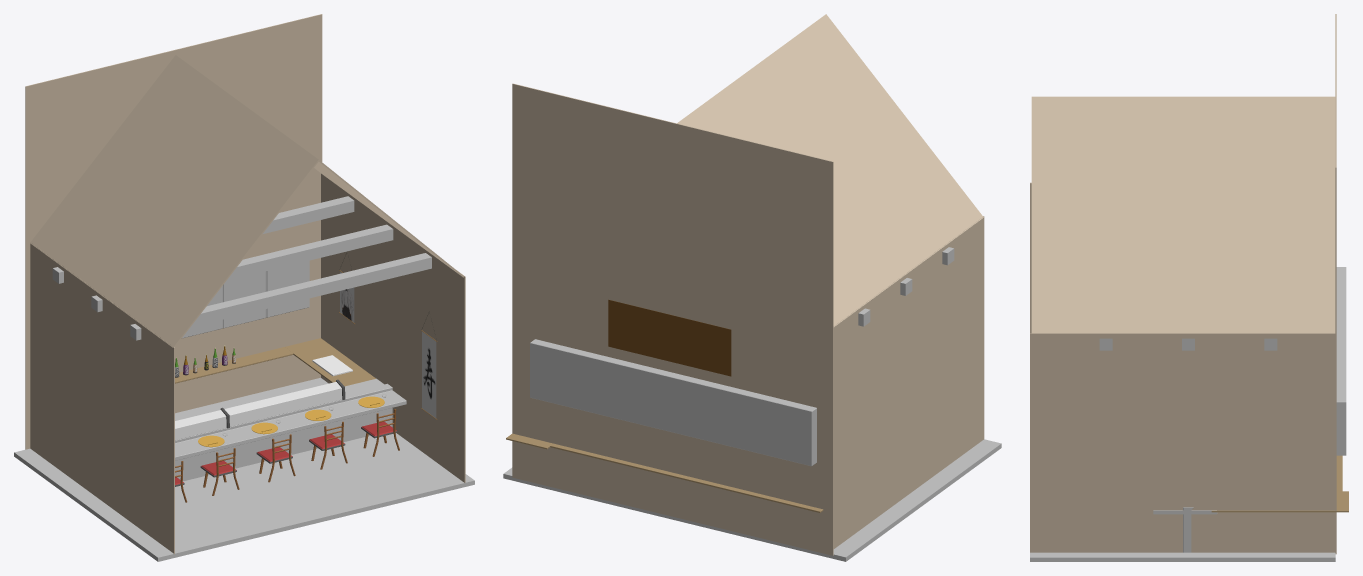
File: sushiya.fbx
The picture shows the model from 3 angles, left to right: view 1: azimuth 30°, elevation 25°; view 2: azimuth 150°, elevation 25°; view 3: azimuth 270°, elevation 25°; orthographic projection. The views are drawn at different scales.
Visible parts, largest first — view 1: pCube24, pCube3, pCube22, pCube1, pCube2, pCube4, pCube29, polySurface1, pCube5, pCube28, pCylinder25, pCube27 (+6 smaller); view 2: pCube3, pCube24, pCube22, pCube5, pCube26, pCube1, pCube10; view 3: pCube24, pCube2, pCube1, pCube5, pCube3, pCube4, pCube7.
Boxes of the visible parts, left/top/right/bottom form: pCube24: left=30, top=55, right=463, bottom=347; pCube3: left=25, top=14, right=322, bottom=449; pCube22: left=30, top=242, right=174, bottom=554; pCube1: left=14, top=377, right=474, bottom=561; pCube2: left=321, top=173, right=465, bottom=482; pCube4: left=175, top=378, right=406, bottom=481; pCube29: left=130, top=253, right=431, bottom=340; polySurface1: left=175, top=382, right=342, bottom=440; pCube5: left=182, top=260, right=309, bottom=338; pCube28: left=91, top=224, right=393, bottom=312; pCylinder25: left=339, top=253, right=437, bottom=419; pCube27: left=52, top=196, right=354, bottom=283; pCube3: left=512, top=83, right=833, bottom=555; pCube24: left=677, top=14, right=983, bottom=326; pCube22: left=833, top=216, right=984, bottom=548; pCube5: left=530, top=339, right=816, bottom=466; pCube26: left=608, top=299, right=731, bottom=376; pCube1: left=503, top=439, right=1001, bottom=561; pCube10: left=550, top=443, right=823, bottom=512; pCube24: left=1031, top=96, right=1335, bottom=333; pCube2: left=1030, top=333, right=1335, bottom=552; pCube1: left=1030, top=552, right=1335, bottom=561; pCube5: left=1336, top=267, right=1346, bottom=455; pCube3: left=1335, top=14, right=1336, bottom=554; pCube4: left=1153, top=507, right=1217, bottom=552; pCube7: left=1211, top=491, right=1348, bottom=512.
Size of the model in its own units: 106 by 118 by 87.28.
